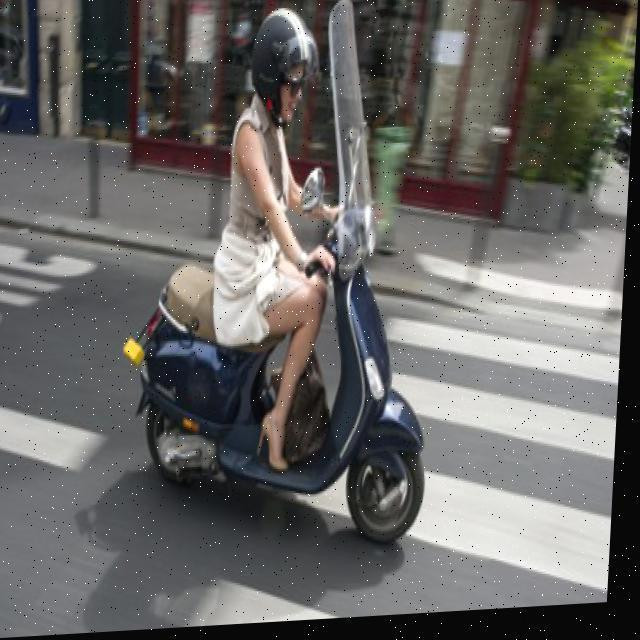Helmet: (242, 10, 322, 132)
